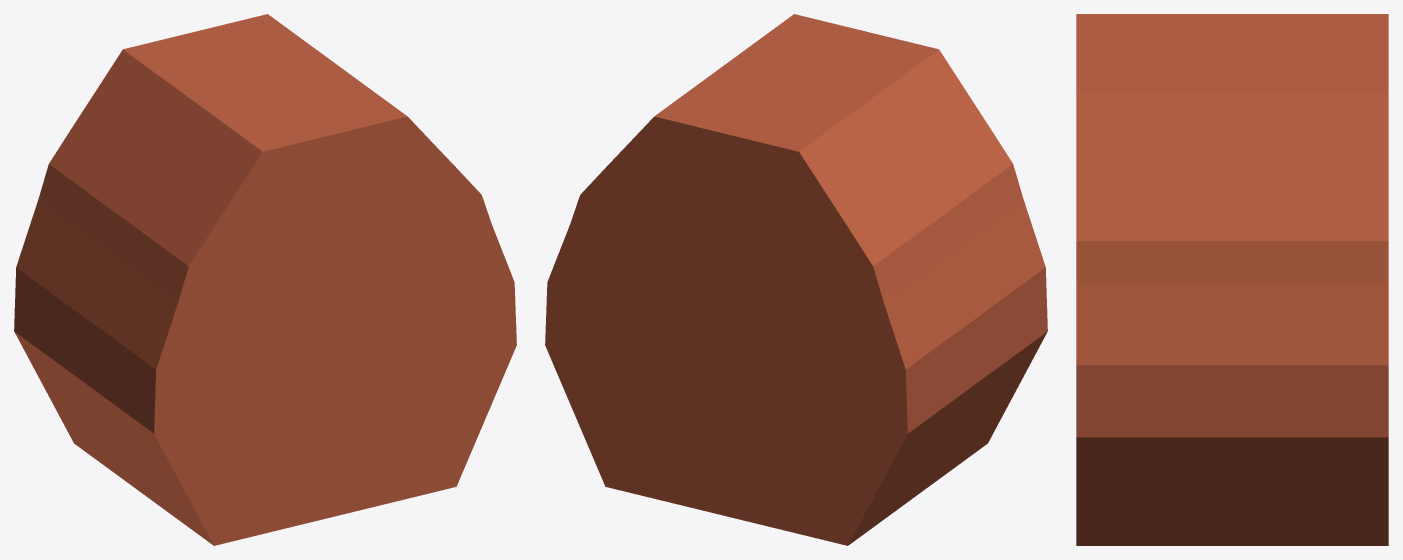
File: tunel.fbx
The picture shows the model from 3 angles, left to right: view 1: azimuth 30°, elevation 25°; view 2: azimuth 150°, elevation 25°; view 3: azimuth 270°, elevation 25°; orthographic projection. The views are drawn at different scales.
Visible parts, largest first — view 1: Tunel; view 2: Tunel; view 3: Tunel.
Boxes of the visible parts, x1,y1,x2,y2 form: Tunel: (14, 14, 516, 545); Tunel: (545, 14, 1047, 545); Tunel: (1076, 14, 1388, 545).
Size of the model in its own units: 150 by 151 by 100.
